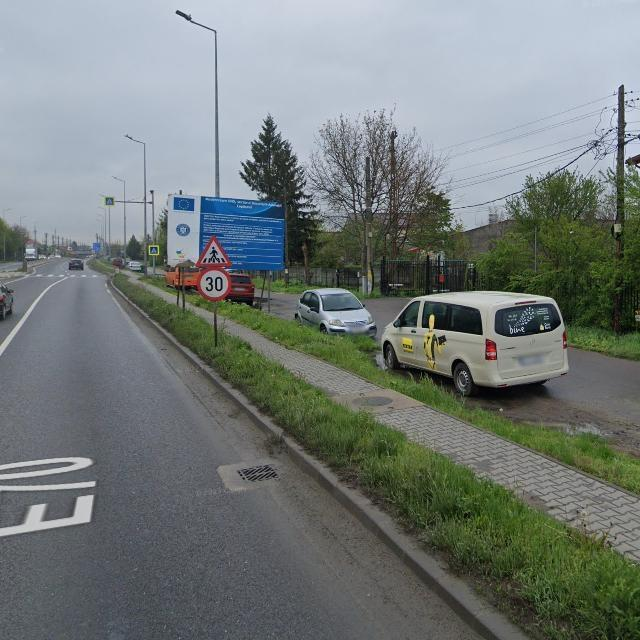forb_speed_over_30: (198, 269, 231, 301)
info_crosswalk: (150, 243, 160, 258), (105, 196, 115, 208)
warn_crosswalk: (198, 238, 227, 267)
